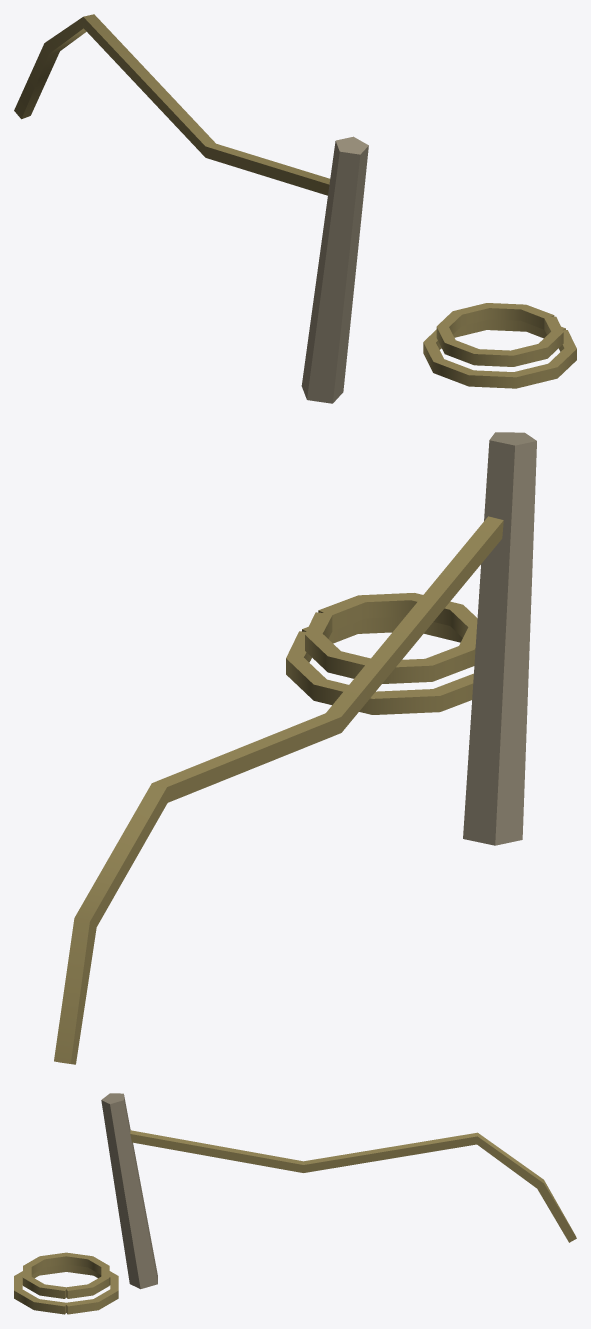
Rendered from RopeAnchor.fbx.
3 views of the same model, one above another, from view 1: azimuth 30°, elevation 25°; view 2: azimuth 150°, elevation 25°; view 3: azimuth 270°, elevation 25° (orthographic). The views are drawn at different scales.
Parts seen in each view (by area): view 1: RopeAnchor; view 2: RopeAnchor; view 3: RopeAnchor.
Boxes of the visible parts, left/top/right/bottom form: RopeAnchor: left=14, top=14, right=576, bottom=403; RopeAnchor: left=54, top=432, right=536, bottom=1064; RopeAnchor: left=14, top=1093, right=576, bottom=1314.
Size of the model in its own units: 0.541 by 0.6632 by 1.78.
